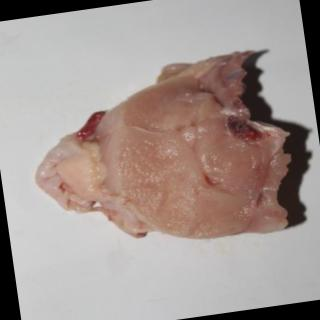Ayam: (23, 48, 301, 265)
